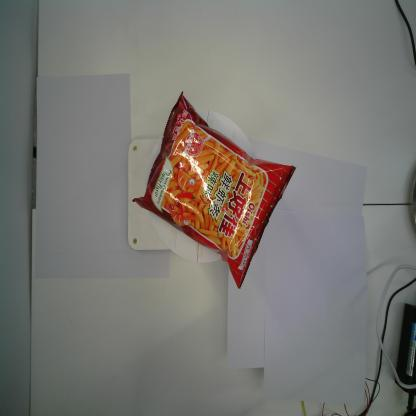Puffed Food: (132, 89, 297, 292)
